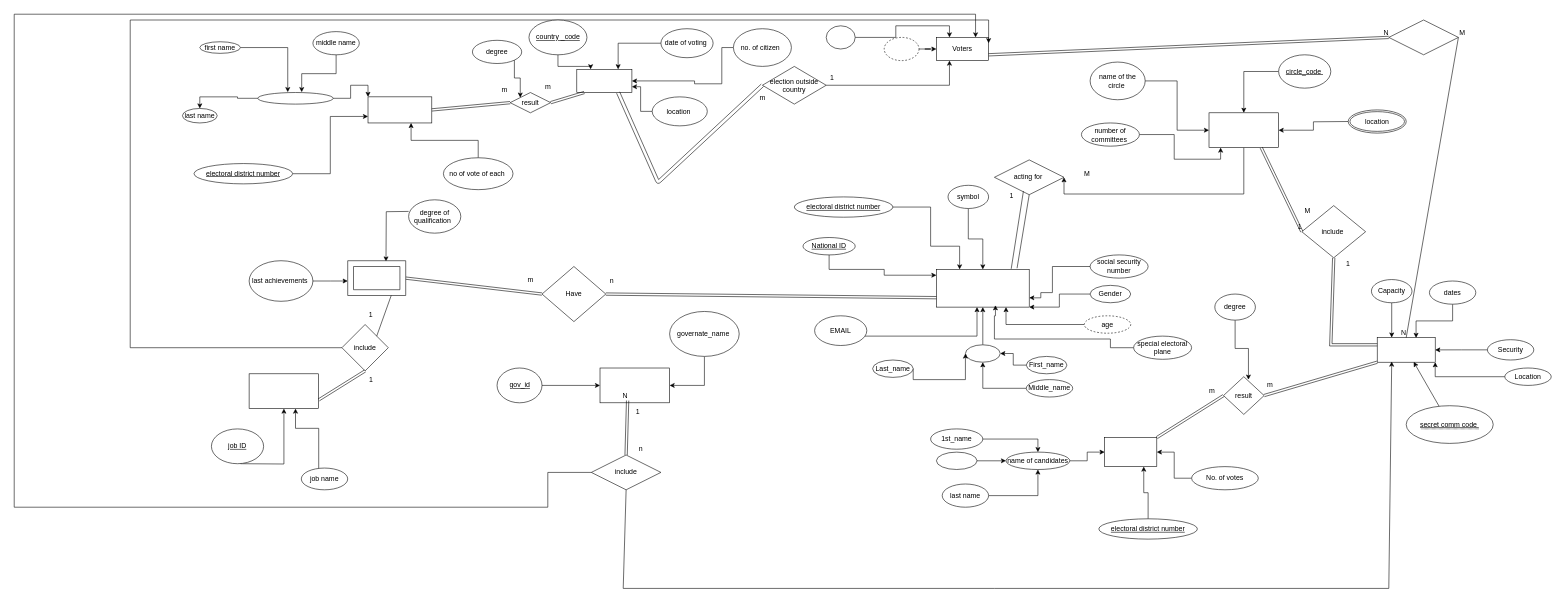
The diagram is 1561 pixels wide and 603 high, and some of its shapes have lost their labels. The shapes that lost their labels are listed below. From the top down, each one's centre as x and y in pixels, then its label:
At (840,37): "SSN".
At (901,49): "birthdate".
At (1423,37): "vote in".
At (295,98): "Name of candidate".
At (604,81): "Embassy".
At (399,109): "embassy election result".
At (1243,130): "CIRCLE".
At (376,278): "candidate job".
At (982,288): "Candidate".
At (982,353): "name".
At (1406,349): "Committees".
At (284,391): "job info.".
At (634,385): "govern_info".
At (956,461): "2nd name".
At (1130,452): "vote result in egypt".
